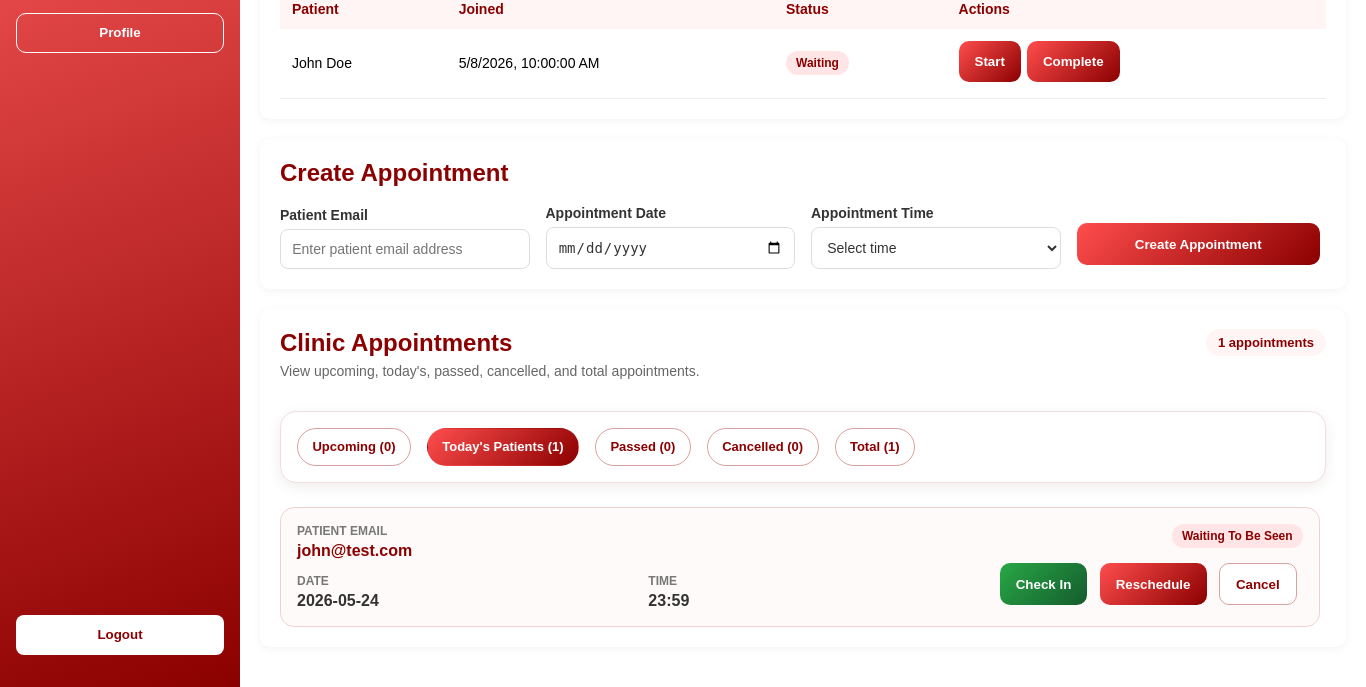
Test: StaffDashboard › starts reschedule flow
(page scrolled)
Expected: the heading "john@test.com" is shown, [297,542,412,559]
Step 1. Click the button "Reschedule" → (1153, 584), box [1100,563,1206,605]
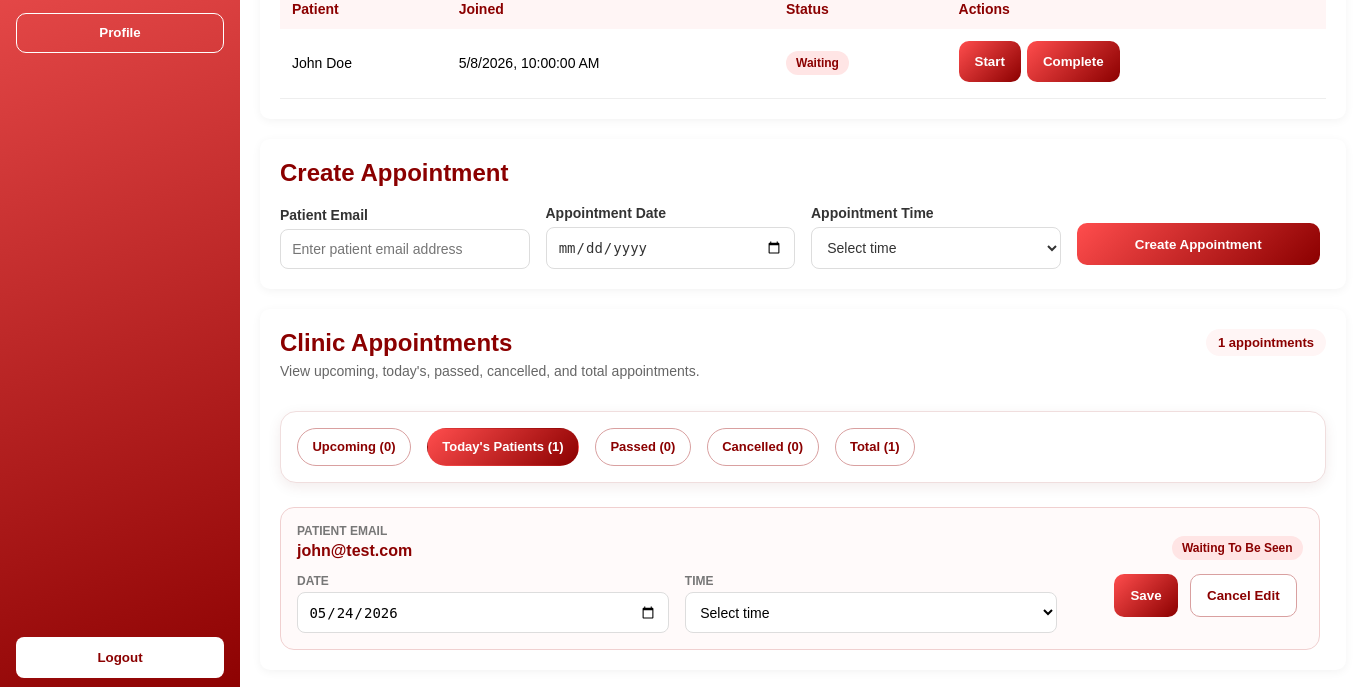
Now the button "Save" is shown, box [1114,574,1178,617]
Now the button "Cancel Edit" is shown, box [1190,574,1297,617]
